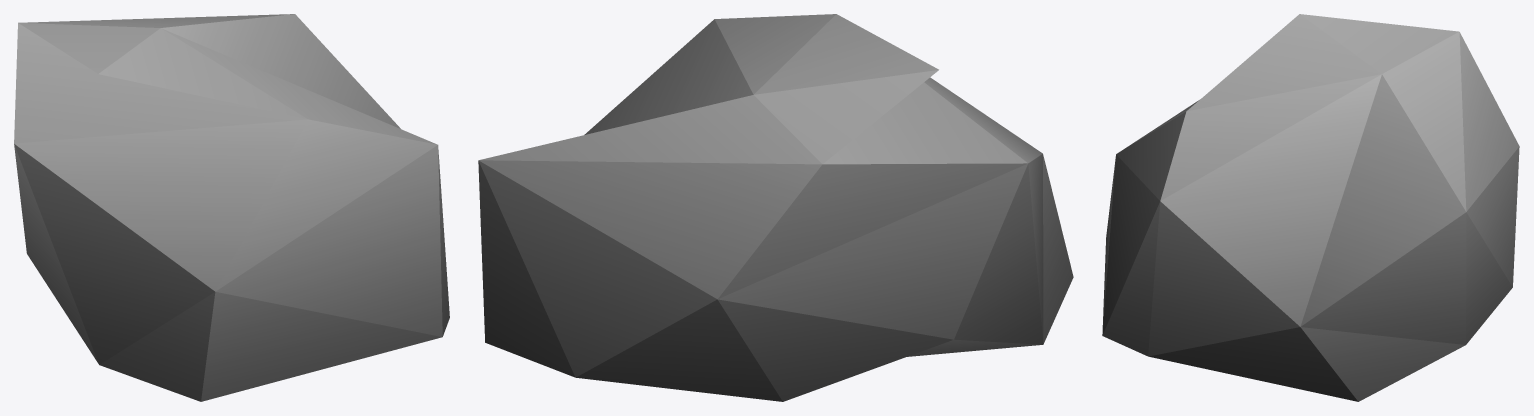
File: LargeRock.FBX
3 renders of one model, left to right at view 1: azimuth 30°, elevation 25°; view 2: azimuth 150°, elevation 25°; view 3: azimuth 270°, elevation 25°, orthographic. The views are drawn at different scales.
Parts seen in each view (by area): view 1: GeoSphere004; view 2: GeoSphere004; view 3: GeoSphere004.
Boxes of the visible parts, x1,y1,x2,y2 form: GeoSphere004: (14,14,449,401); GeoSphere004: (478,14,1073,401); GeoSphere004: (1102,14,1519,401).
Bounding box in the file's own units: 86.73 × 52.58 × 82.44.
